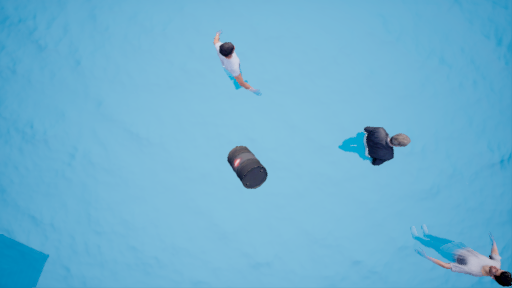person: (411, 222, 505, 288), (211, 32, 258, 101), (333, 124, 404, 164)
